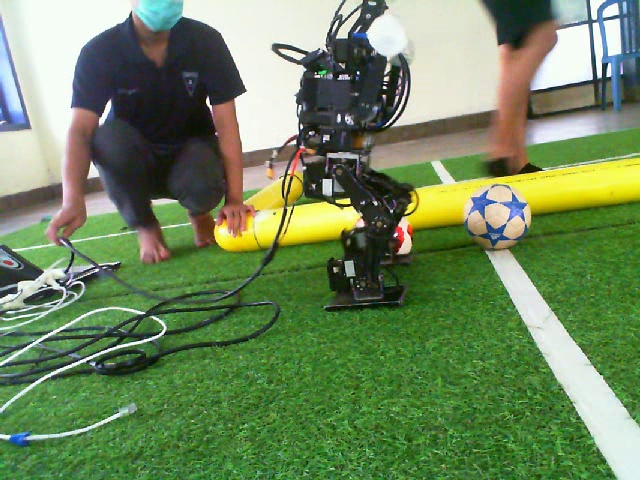ball: (462, 181, 532, 252), (389, 211, 415, 257)
